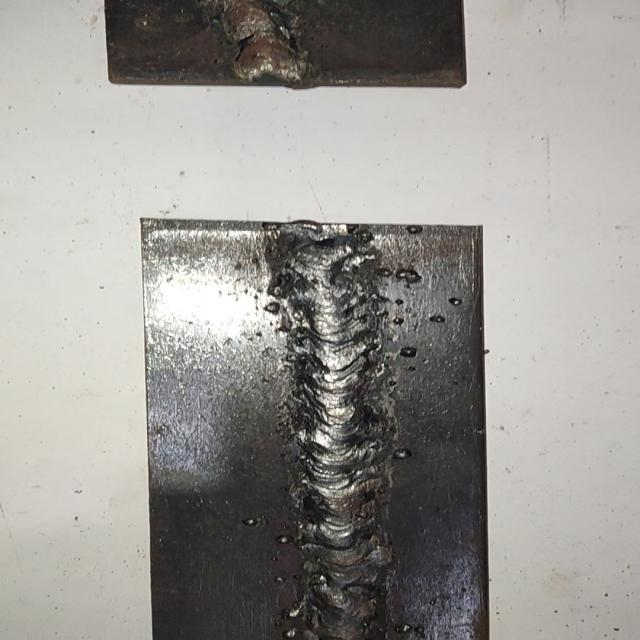Welding Line: (292, 228, 382, 640)
Workpiece: (132, 213, 495, 640), (103, 0, 473, 88)
